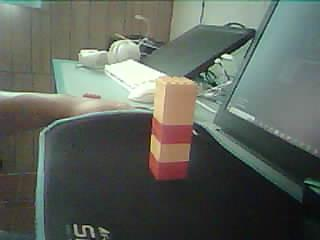lego: (148, 74, 199, 180)
